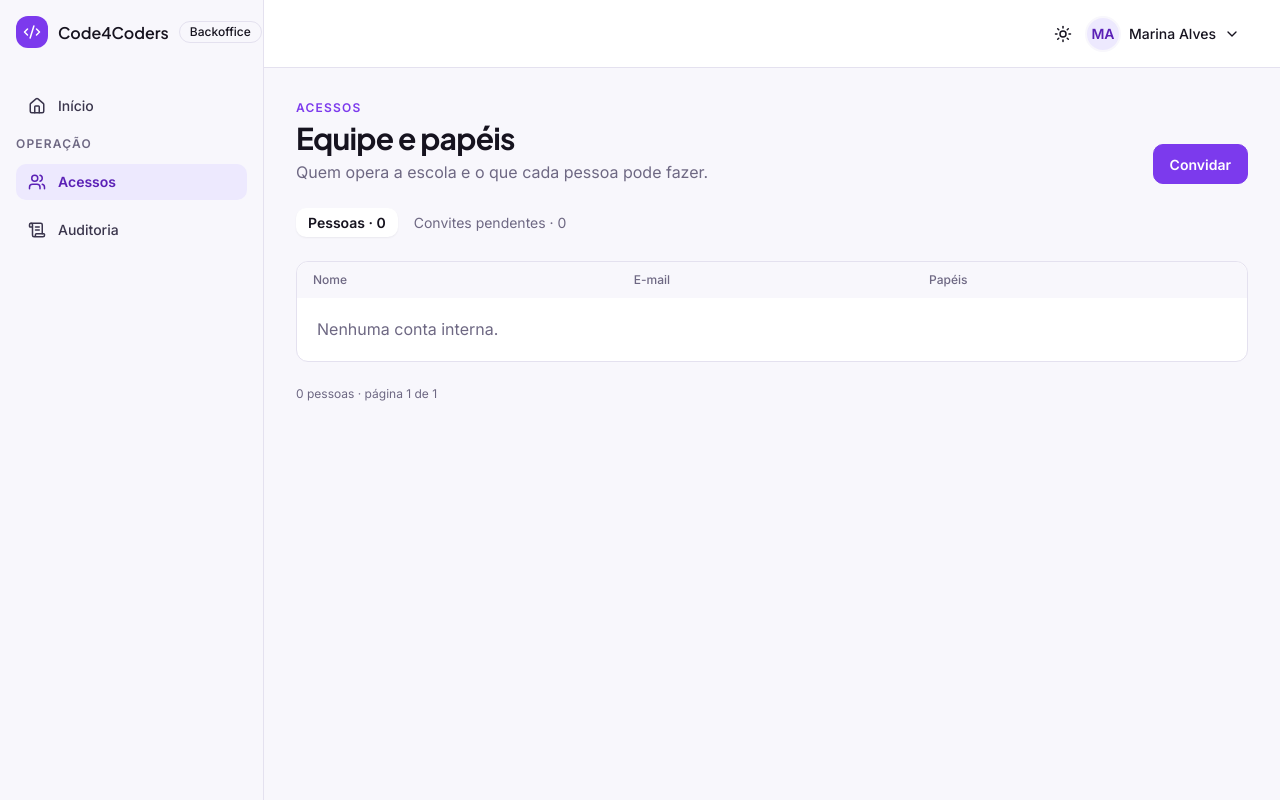
Scenario: StaffInvitationIssuing › shows the specific message for EMAIL_BELONGS_TO_STAFF
The width and height of the screenshot is (1280, 800).
Click the button "Convidar" at (1200, 164), box [1153,144,1248,184]
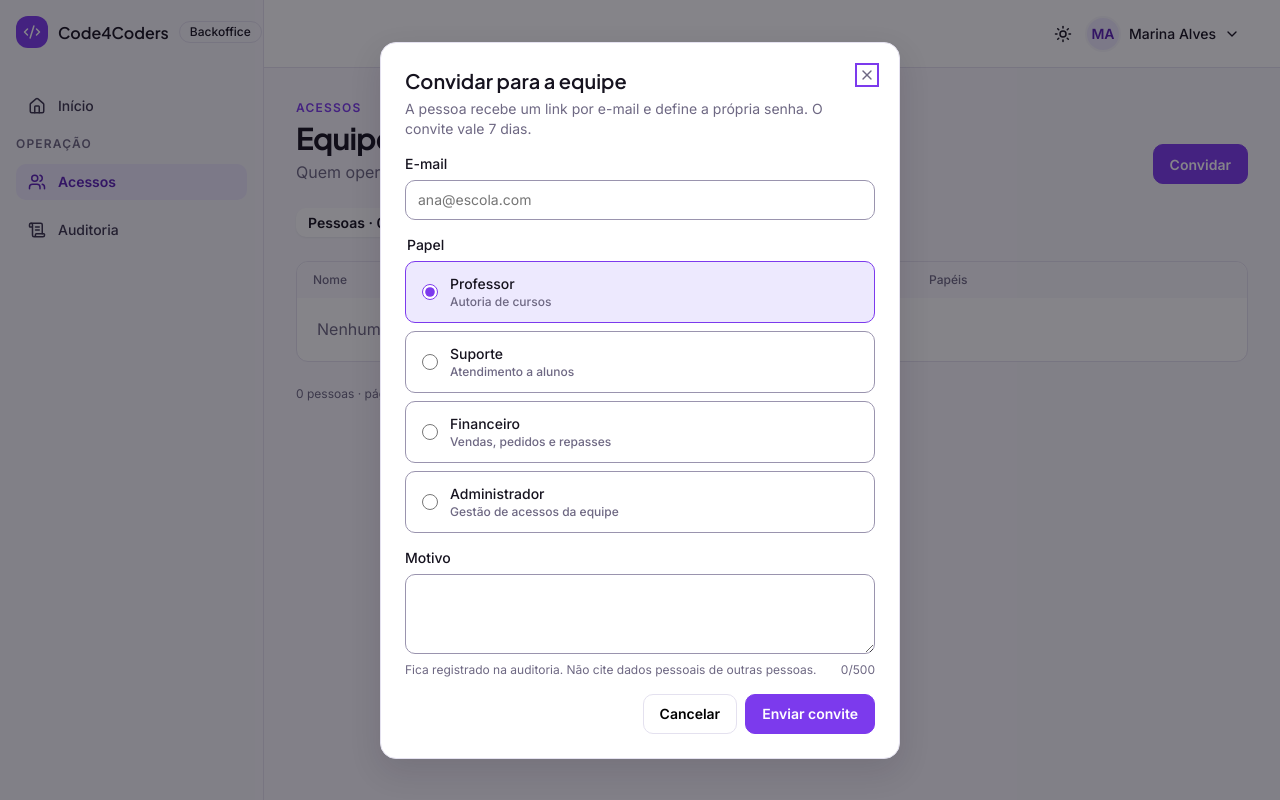
Type "convidada@example.com" into the field labelled "E-mail" at (640, 200), box [405,180,875,220]
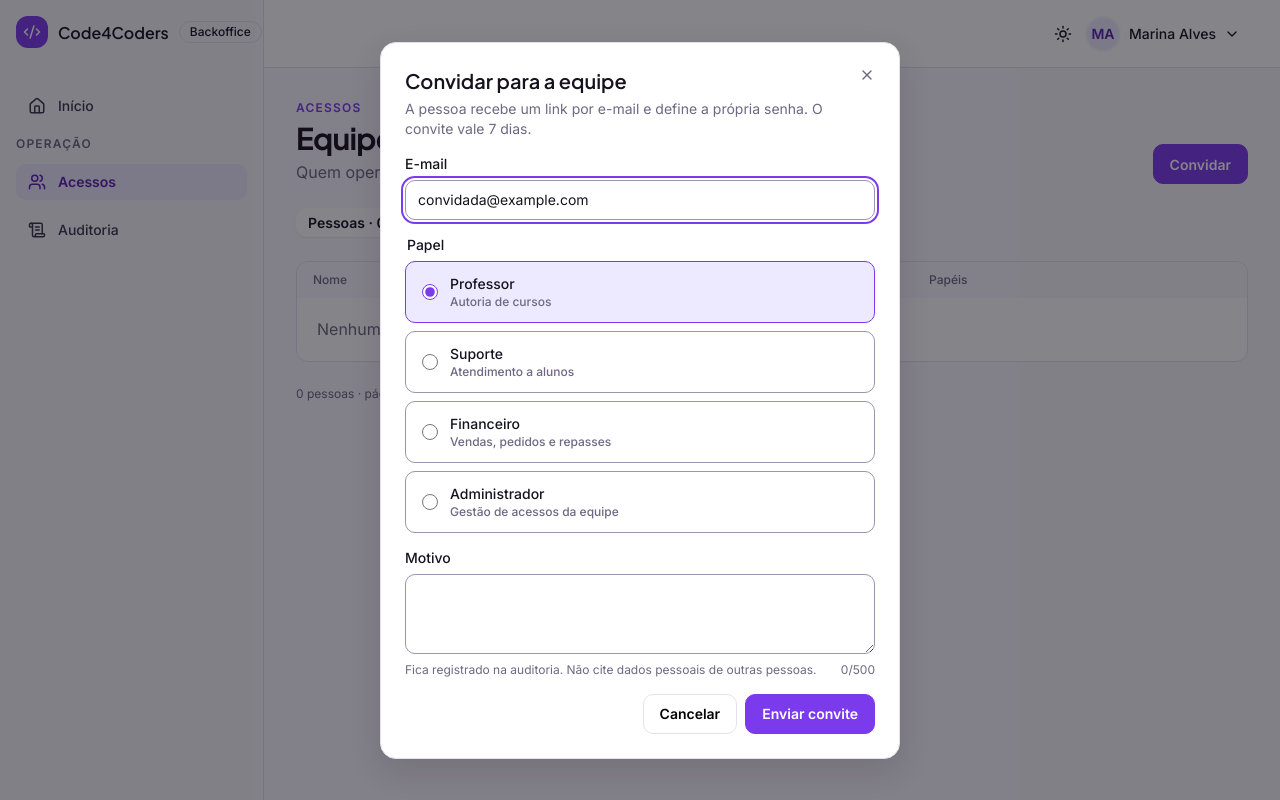
Type "Motivo informado." into the text box labelled "Motivo" at (640, 614), box [405,574,875,654]
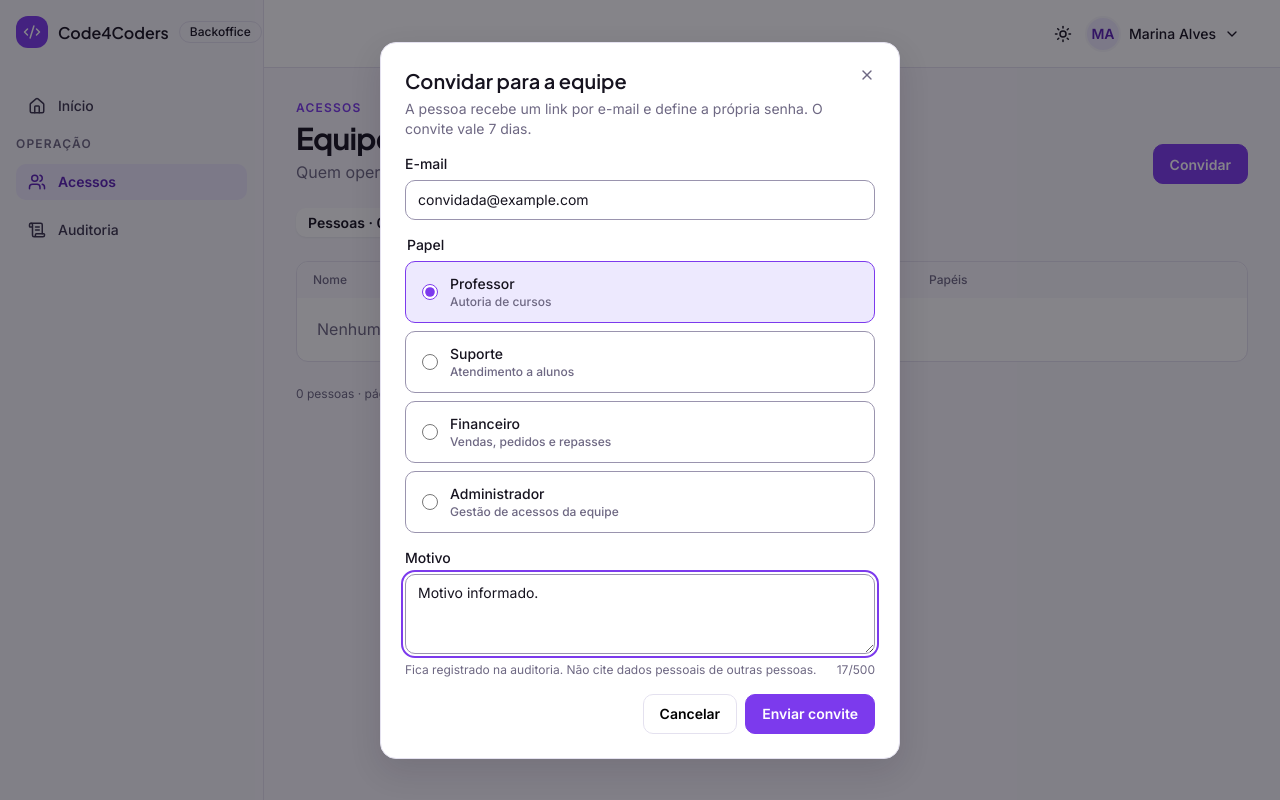
Click the button "Enviar convite" at (810, 714), box [745,694,875,734]
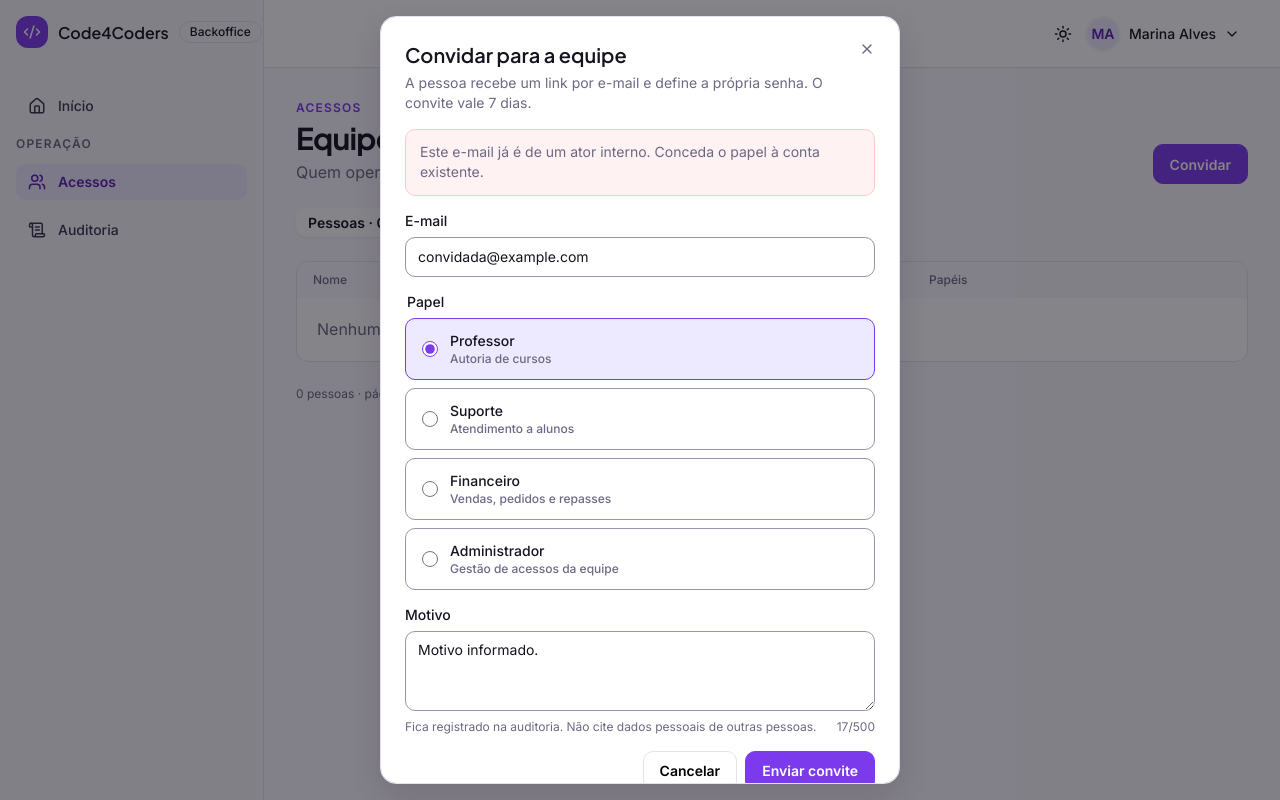
expect the message reads "Este e-mail já é de um ator interno. Conceda o papel à conta existente.": met, box [420,143,820,180]
